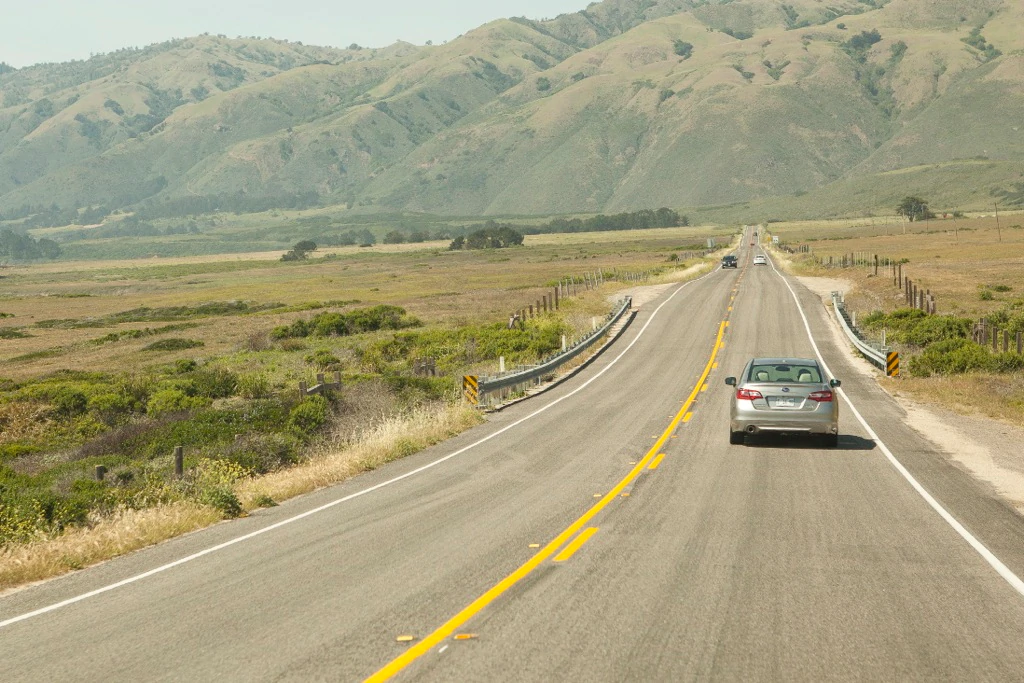car: (734, 357, 837, 447), (722, 255, 738, 268), (754, 255, 767, 265)
